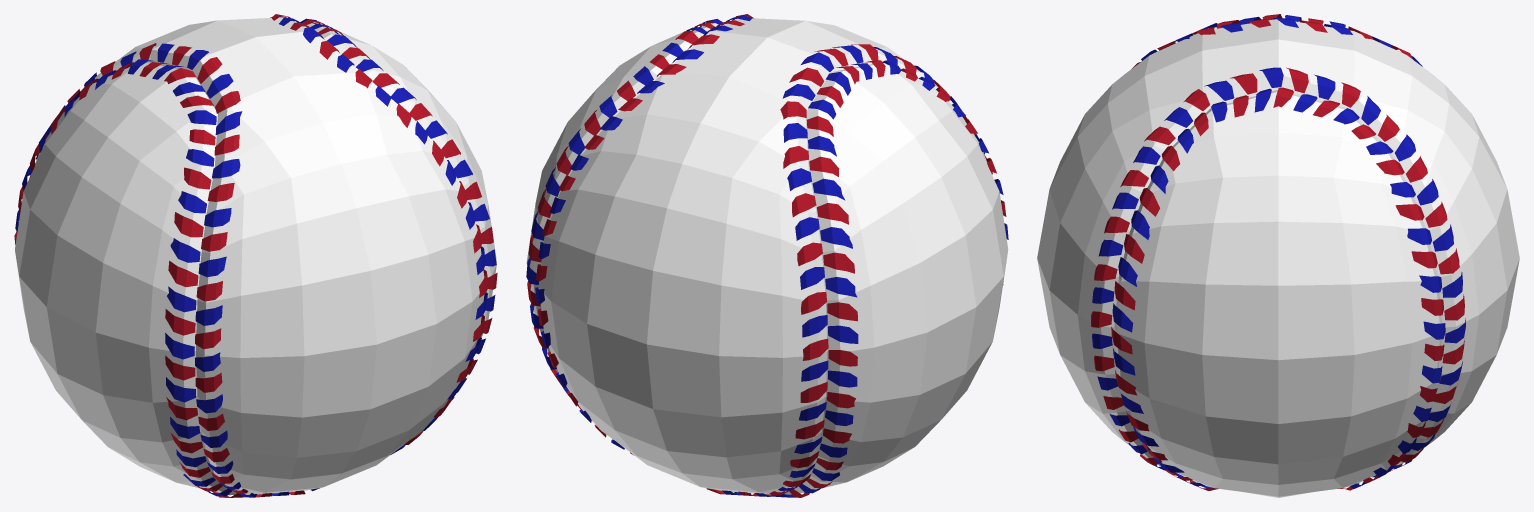
The model's file is ball.glb.
3 views of the same model, side by side, from view 1: azimuth 30°, elevation 25°; view 2: azimuth 150°, elevation 25°; view 3: azimuth 270°, elevation 25° (orthographic).
Visible parts, largest first — view 1: Ball; view 2: Ball; view 3: Ball.
Boxes of the visible parts, left/top/right/bottom form: Ball: left=14, top=14, right=497, bottom=497; Ball: left=526, top=14, right=1008, bottom=497; Ball: left=1037, top=14, right=1519, bottom=497.
Bounding box in the file's own units: 2.86 × 2.86 × 2.86.
Materials: 1 (1 with a texture image).
